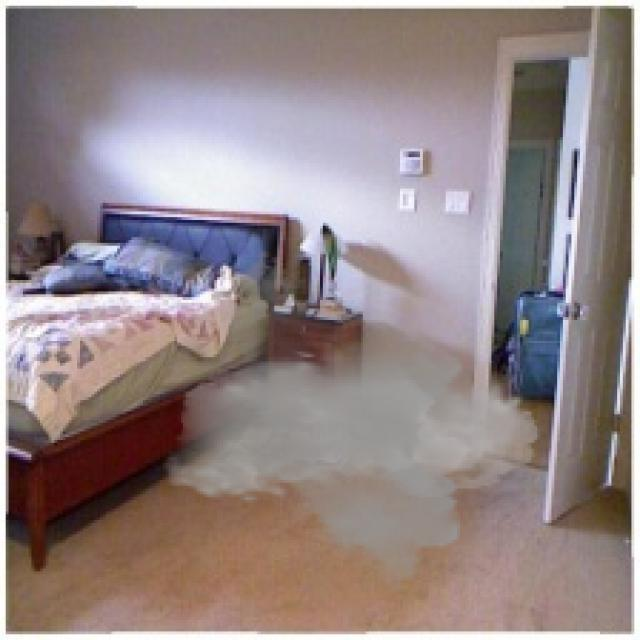Smoke: (163, 248, 540, 592)
